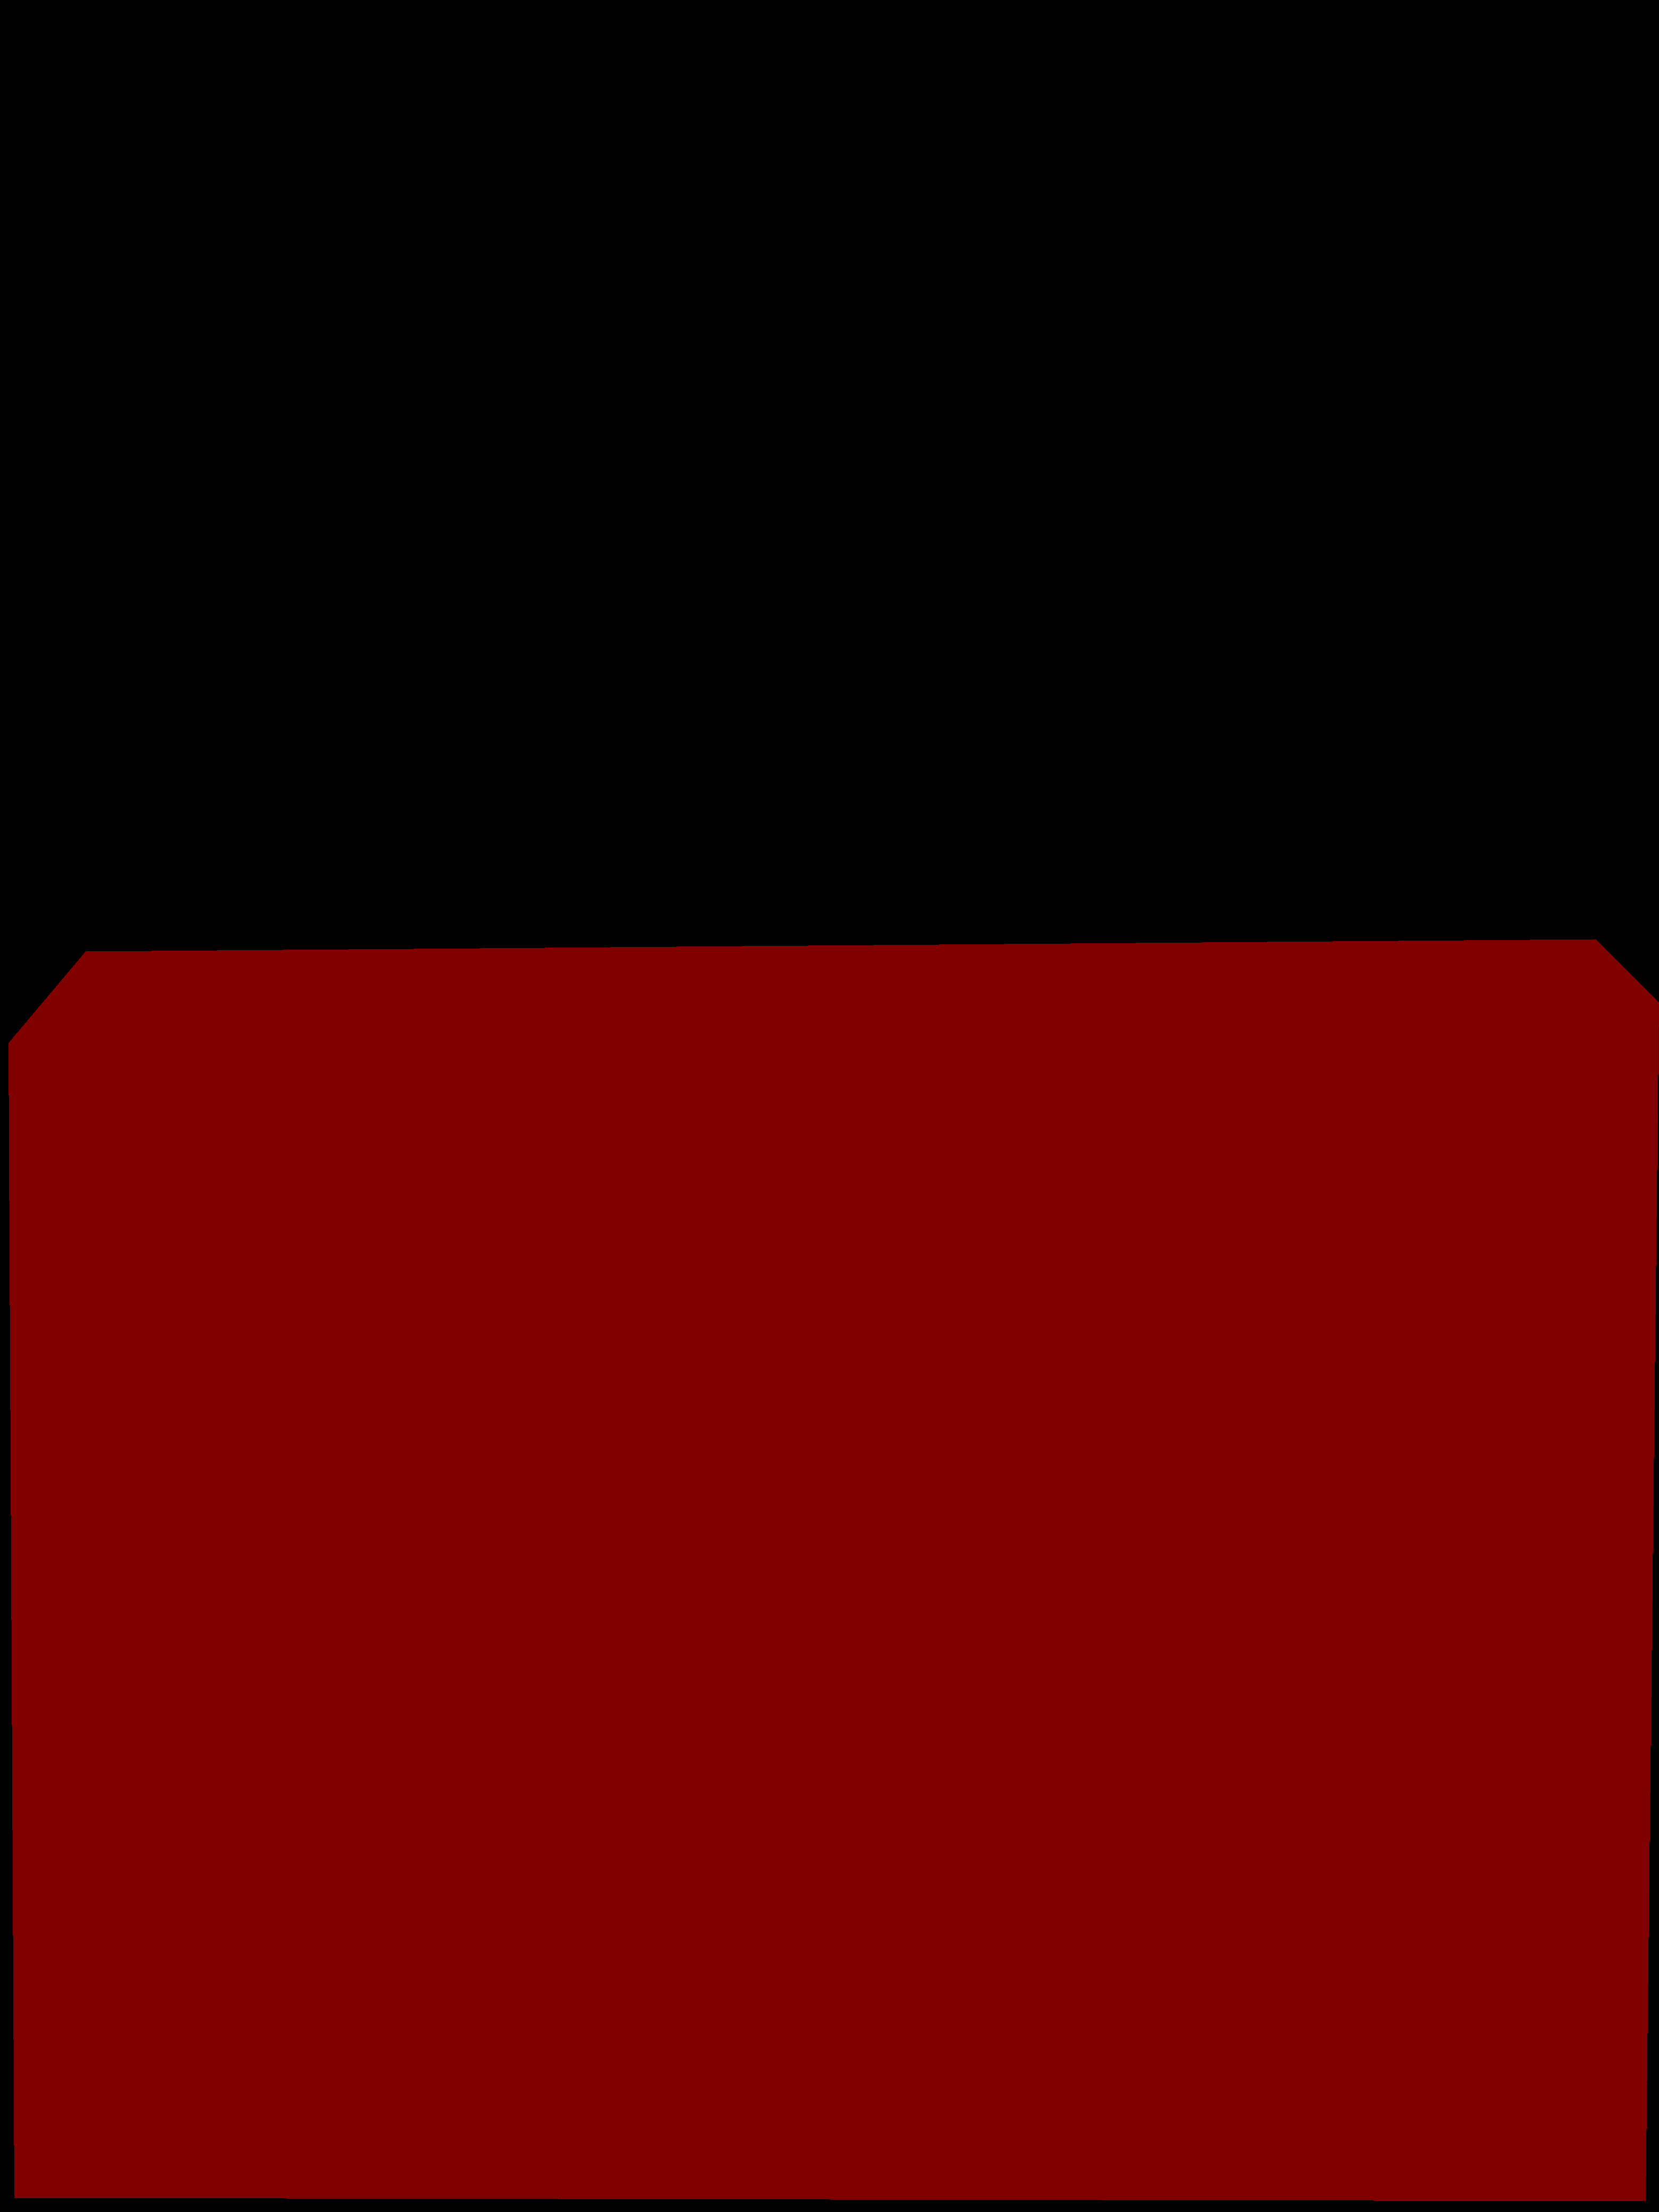stair: (9, 939, 1659, 2202)
